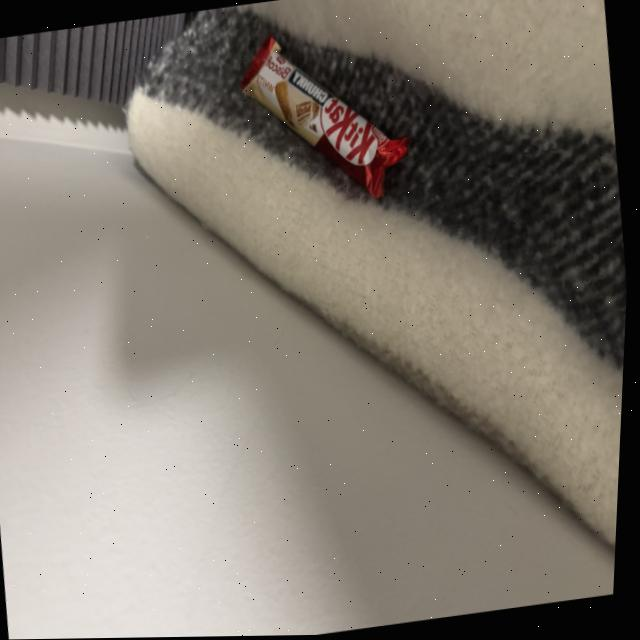chocolate: (215, 5, 426, 225)
